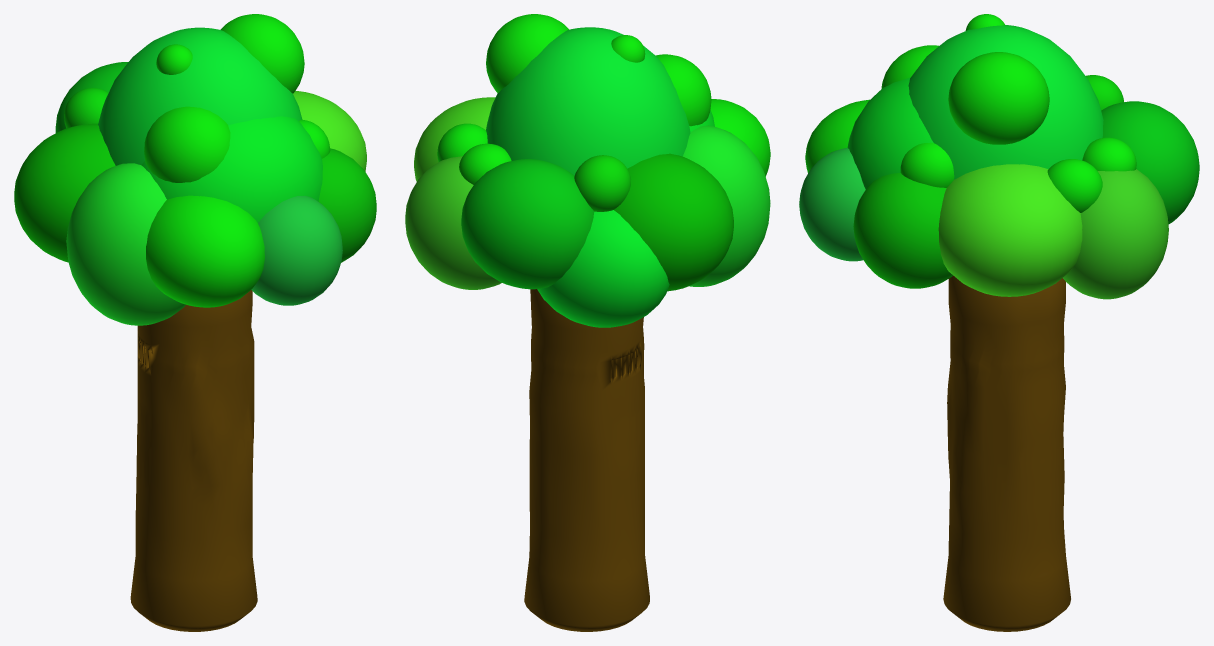
Rendered from tree.glb.
3 views of the same model, side by side, from view 1: azimuth 30°, elevation 25°; view 2: azimuth 150°, elevation 25°; view 3: azimuth 270°, elevation 25° (orthographic).
Parts seen in each view (by area): view 1: Cylinder, Sphere.003, Sphere.007, Sphere.015, Sphere, Sphere.006, Sphere.001, Sphere.017, Sphere.009, Sphere.016, Sphere.008, Sphere.013 (+3 smaller); view 2: Cylinder, Sphere.003, Sphere.005, Sphere.006, Sphere.004, Sphere.002, Sphere.007, Sphere.016, Sphere.013, Sphere.008, Sphere.017, Sphere.015 (+3 smaller); view 3: Cylinder, Sphere.008, Sphere.003, Sphere.002, Sphere.009, Sphere.016, Sphere.005, Sphere.001, Sphere, Sphere.011, Sphere.015, Sphere.010 (+3 smaller).
Part boxes in pixels (<box>): Cylinder: <box>130,290,257,631</box>; Sphere.003: <box>98,27,302,165</box>; Sphere.007: <box>66,163,185,325</box>; Sphere.015: <box>146,195,264,307</box>; Sphere: <box>141,116,322,222</box>; Sphere.006: <box>14,123,115,262</box>; Sphere.001: <box>251,195,342,305</box>; Sphere.017: <box>144,106,230,182</box>; Sphere.009: <box>318,148,376,262</box>; Sphere.016: <box>220,14,304,93</box>; Sphere.008: <box>293,91,366,171</box>; Sphere.013: <box>64,88,108,128</box>; Cylinder: <box>524,289,649,631</box>; Sphere.003: <box>486,27,690,175</box>; Sphere.005: <box>461,159,594,289</box>; Sphere.006: <box>614,153,733,291</box>; Sphere.004: <box>537,210,669,327</box>; Sphere.002: <box>405,156,501,289</box>; Sphere.007: <box>683,125,770,286</box>; Sphere.016: <box>486,14,568,92</box>; Sphere.013: <box>574,155,630,211</box>; Sphere.008: <box>414,97,495,181</box>; Sphere.017: <box>656,54,711,126</box>; Sphere.015: <box>710,99,770,176</box>; Cylinder: <box>943,275,1070,631</box>; Sphere.008: <box>938,164,1082,296</box>; Sphere.003: <box>908,25,1103,179</box>; Sphere.002: <box>1063,169,1168,299</box>; Sphere.009: <box>853,173,952,288</box>; Sphere.016: <box>948,52,1049,144</box>; Sphere.005: <box>1101,101,1199,224</box>; Sphere.001: <box>799,148,865,261</box>; Sphere: <box>847,77,933,189</box>; Sphere.011: <box>1047,159,1102,212</box>; Sphere.015: <box>805,99,869,172</box>; Sphere.010: <box>900,142,954,187</box>.
Size of the model in its own units: 6.3 by 10.94 by 6.82.
